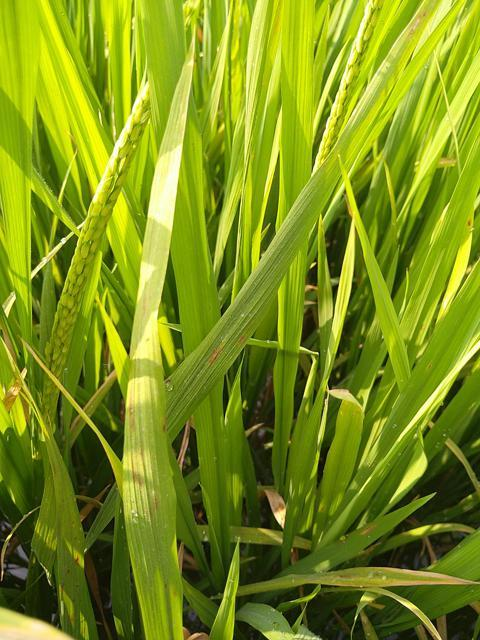Leaf Streak: (124, 52, 192, 526), (200, 322, 250, 371)
